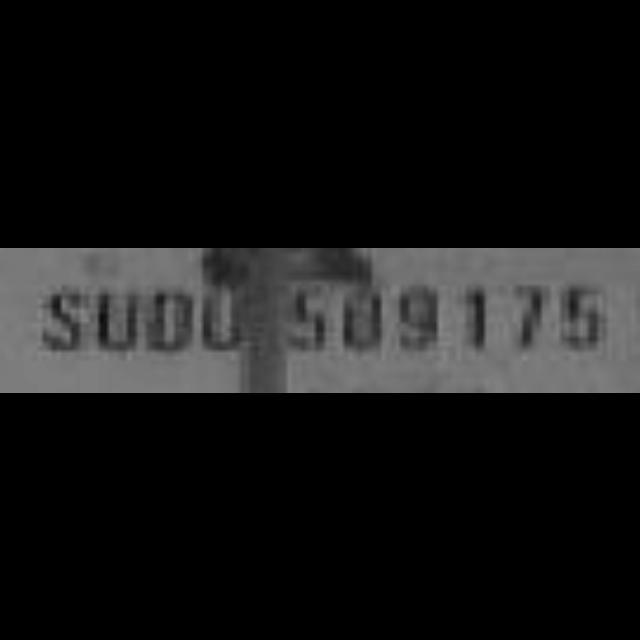1: (454, 276, 496, 356)
5: (556, 279, 608, 359), (286, 280, 330, 358)
7: (508, 276, 552, 354)
8: (338, 276, 384, 358)
9: (394, 279, 446, 357)
d: (146, 282, 194, 358)
s: (41, 282, 90, 354)
u: (96, 280, 140, 358), (198, 284, 244, 358)
